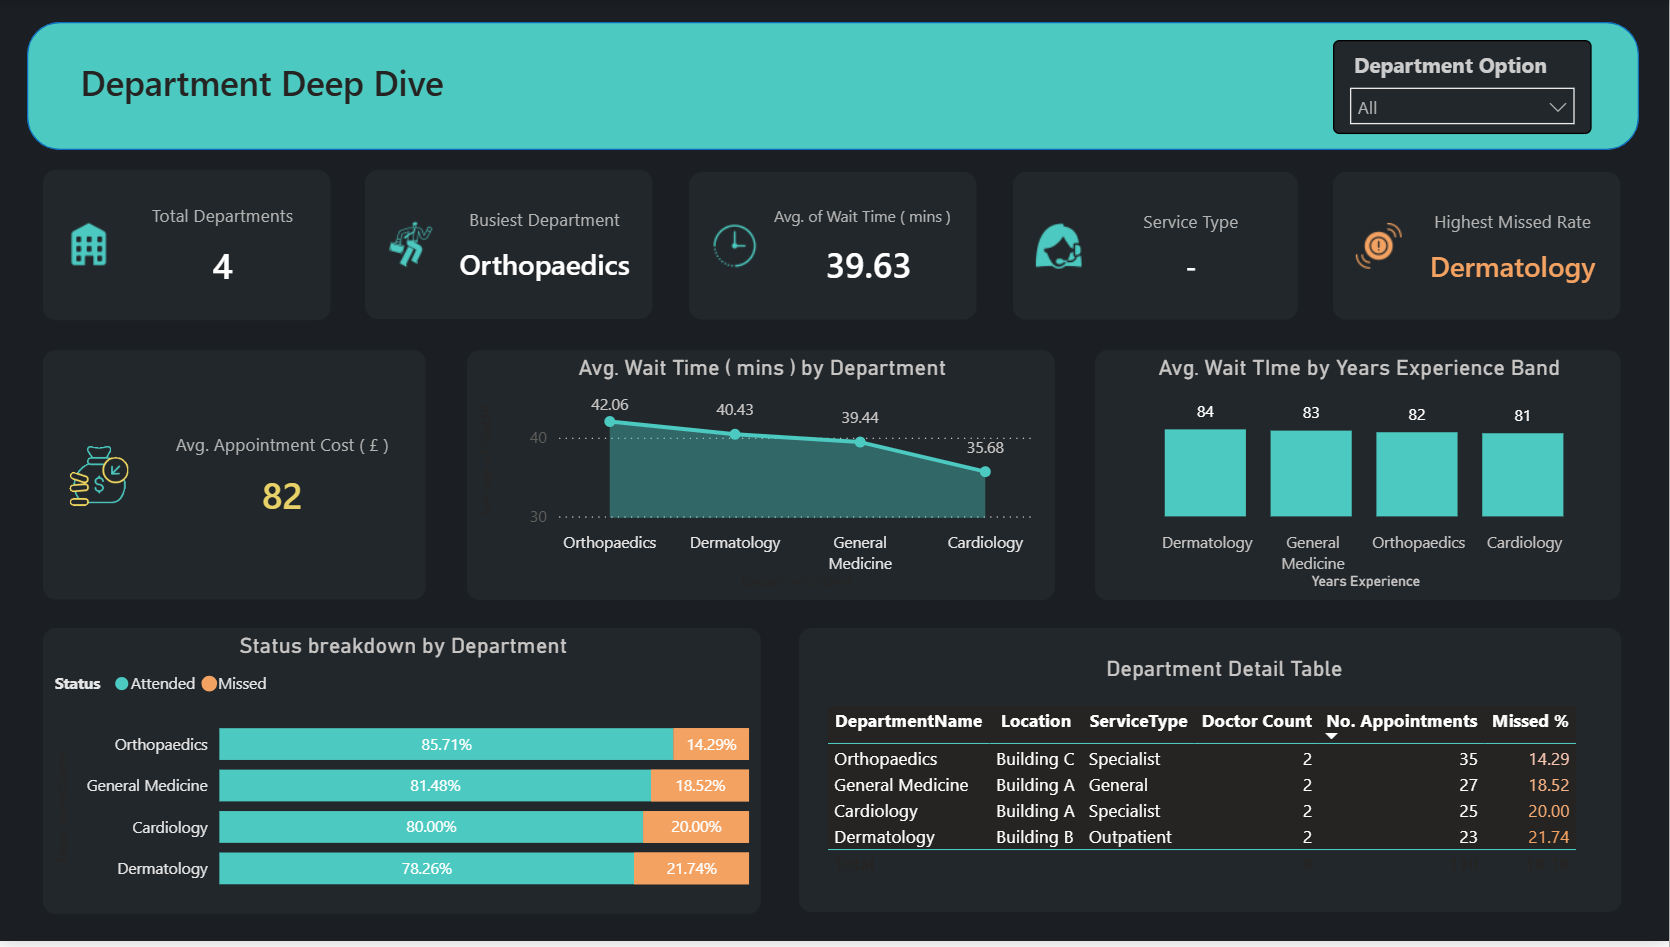

This screenshot's page, from the dashboard's own definition file:
{"tool":"powerbi","page":{"name":"Department Deep Dive 🏥","canvas":[1280,720],"ordinal":2},"visuals":[{"type":"shape","box":[23,16.8,1234.1,98],"z":0},{"type":"cardVisual","title":"Total Appointment","fields":{"Data":["CountNonNull(hospitaldb dim_department.DepartmentID)"]},"box":[35.2,129.4,220,115.1],"z":0,"group":"g1"},{"type":"textbox","box":[35.2,39.8,335.3,50.5],"z":1000},{"type":"cardVisual","title":"Total Appointment","fields":{"Data":["hospitaldb vw_appointments_clean.Busiest Department"]},"box":[282.3,129.5,220,114.8],"z":1000,"group":"g1"},{"type":"group","id":"g1","title":"Group 1","box":[35.2,129.4,1208.1,115.1],"z":2000},{"type":"cardVisual","title":"Total Appointment","fields":{"Data":["Avg(hospitaldb vw_appointments_clean.WaitMinutes)"]},"box":[529.4,130.2,220.5,113.5],"z":2000,"group":"g1"},{"type":"cardVisual","title":"Total Appointment","fields":{"Data":["hospitaldb vw_appointments_clean.Service Type Display"]},"box":[777,130.2,218.9,113.5],"z":3000,"group":"g1"},{"type":"lineChart","title":"Avg. Wait Time ( mins ) by Department","fields":{"Category":["hospitaldb dim_department.DepartmentName"],"Y":["Avg(hospitaldb vw_appointments_clean.WaitMinutes)"]},"box":[359.8,267.9,450.1,191.4],"z":3000},{"type":"cardVisual","title":"Total Appointment","fields":{"Data":["hospitaldb vw_appointments_clean.Highest Missed Rate Department"]},"box":[1023.1,130.2,220.5,113.5],"z":4000,"group":"g1"},{"type":"columnChart","title":"Avg. Wait TIme by Years Experience Band","fields":{"Category":["hospitaldb dim_department.DepartmentName"],"Y":["hospitaldb vw_appointments_clean.Avg AppointmentCost"]},"box":[840.6,267.9,402.7,191.4],"z":4000},{"type":"cardVisual","title":"Total Appointment","fields":{"Data":["hospitaldb vw_appointments_clean.Avg AppointmentCost"]},"box":[35.2,267.9,294,191.4],"z":5000},{"type":"tableEx","title":"Department Detail Table","fields":{"Values":["hospitaldb dim_department.DepartmentName","hospitaldb dim_department.Location","hospitaldb dim_department.ServiceType","hospitaldb vw_appointments_clean.Doctor Count","hospitaldb vw_appointments_clean.AppointmentID","hospitaldb vw_appointments_clean.Missed %"]},"box":[614,480.8,629.3,217.4],"z":6000},{"type":"hundredPercentStackedBarChart","title":"Status breakdown by Department","fields":{"Category":["hospitaldb dim_department.DepartmentName"],"Series":["hospitaldb vw_appointments_clean.Status Group"],"Y":["CountNonNull(hospitaldb vw_appointments_clean.Status Group)"]},"box":[35.2,480.8,549.7,218.9],"z":7000},{"type":"slicer","fields":{"Values":["hospitaldb dim_department.DepartmentName"]},"box":[1022.7,30.4,198.2,71.9],"z":7001}]}

Visuals, with their boxes in screenshot pixels (x1, y1, x2, y2), scaled from the page's 1280x720 canvas onto the 1670x947 screenshot:
shape: box(30, 22, 1640, 151)
"Total Appointment" cardVisual: box(46, 170, 333, 322)
textbox: box(46, 52, 483, 119)
"Total Appointment" cardVisual: box(368, 170, 655, 321)
"Group 1" group: box(46, 170, 1622, 322)
"Total Appointment" cardVisual: box(691, 171, 978, 321)
"Total Appointment" cardVisual: box(1014, 171, 1299, 321)
"Avg. Wait Time ( mins ) by Department" lineChart: box(469, 352, 1057, 604)
"Total Appointment" cardVisual: box(1335, 171, 1623, 321)
"Avg. Wait TIme by Years Experience Band" columnChart: box(1097, 352, 1622, 604)
"Total Appointment" cardVisual: box(46, 352, 430, 604)
"Department Detail Table" tableEx: box(801, 632, 1622, 918)
"Status breakdown by Department" hundredPercentStackedBarChart: box(46, 632, 763, 920)
slicer - hospitaldb dim_department.DepartmentName: box(1334, 40, 1593, 135)
